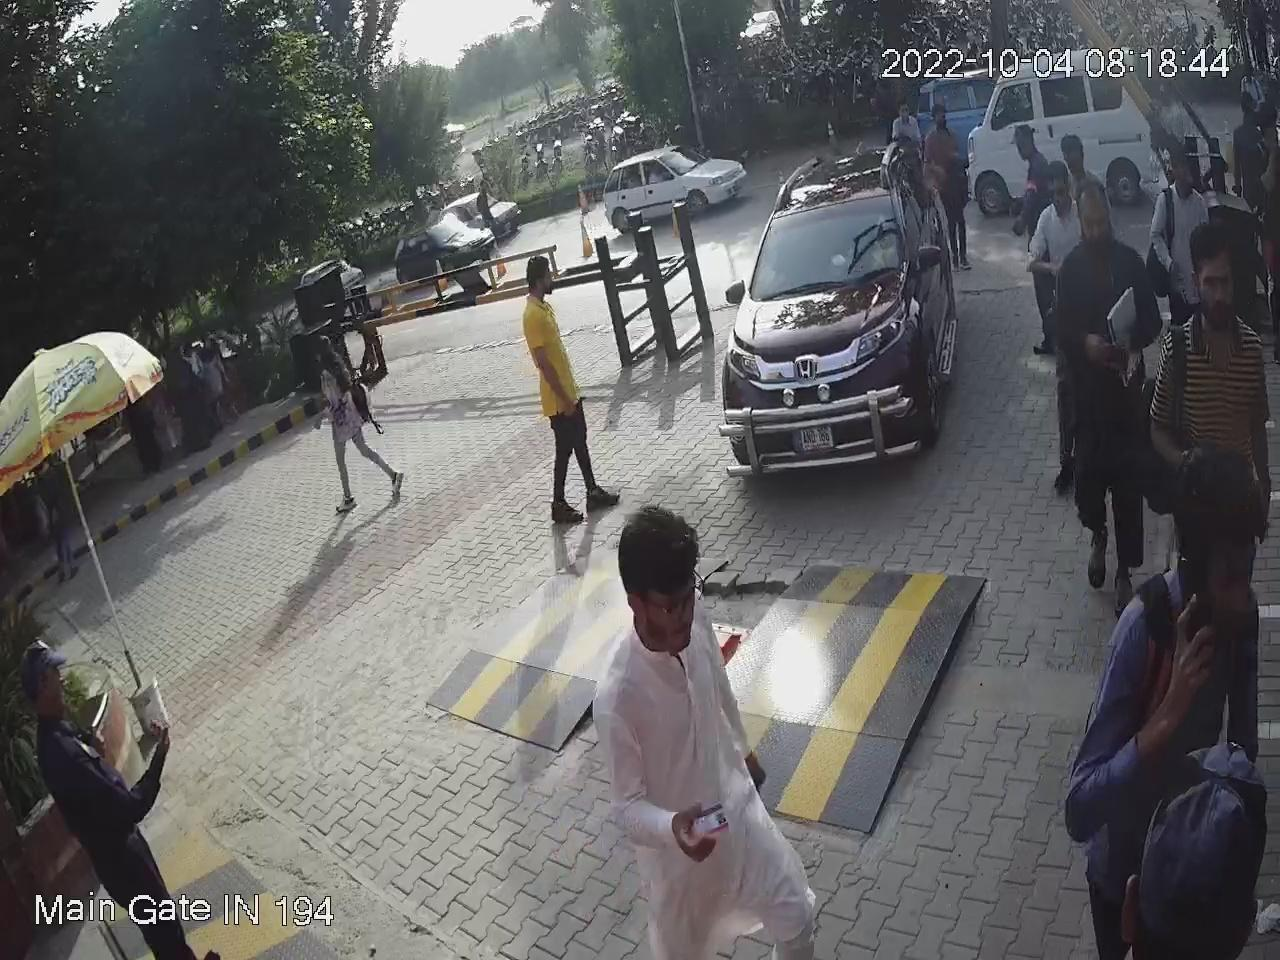windshield: (748, 183, 898, 303)
